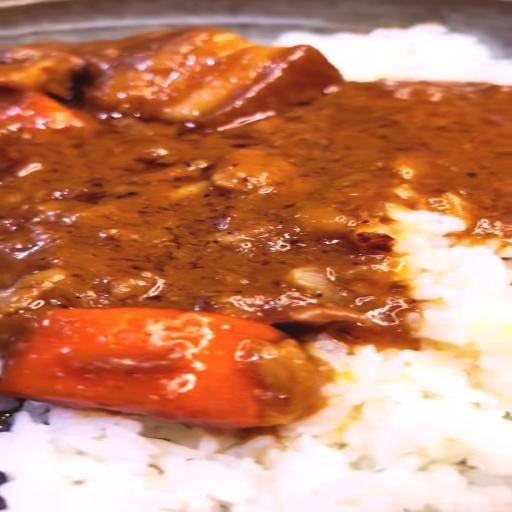pork caldereta: (0, 31, 408, 419)
